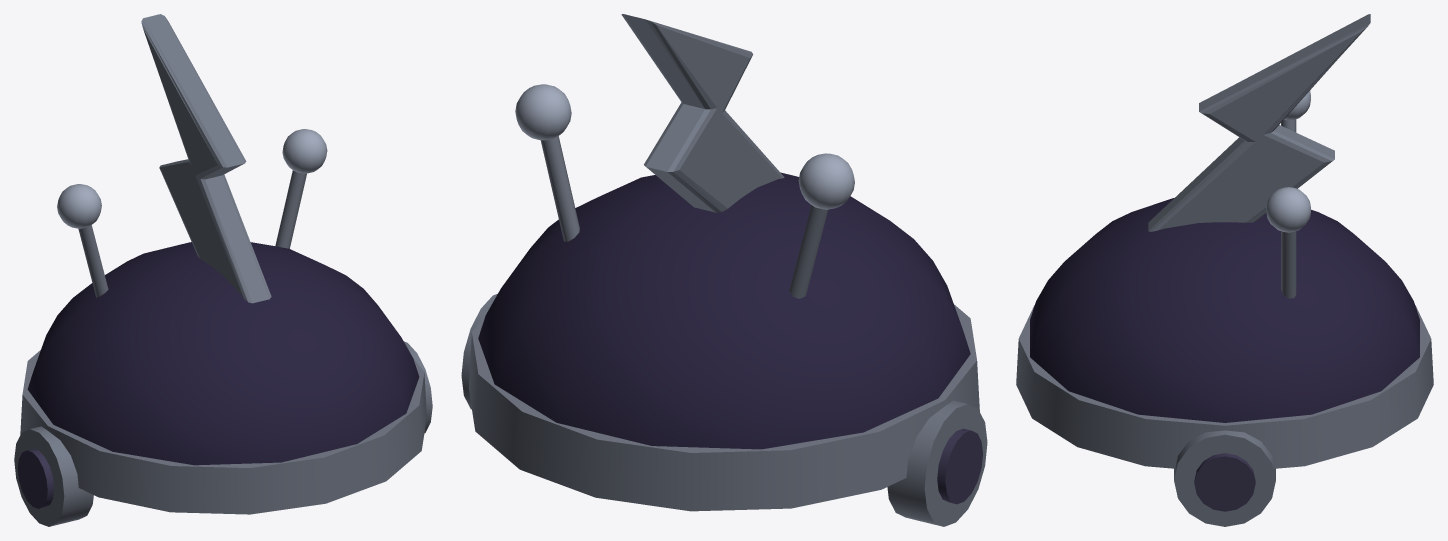
File: hat_eqgw0.glb
3 renders of one model, left to right at view 1: azimuth 30°, elevation 25°; view 2: azimuth 150°, elevation 25°; view 3: azimuth 270°, elevation 25°, orthographic. The views are drawn at different scales.
Bounding box in the file's own units: 2.55 × 2.62 × 2.38.
